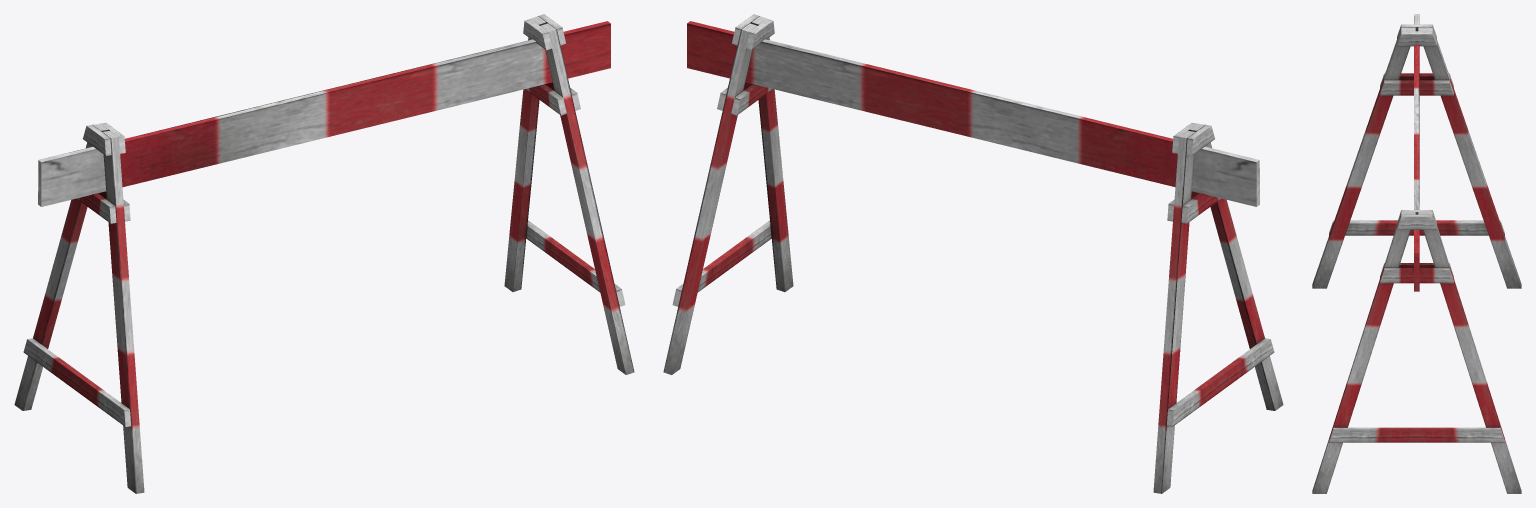
File: barrier_2m.glb
The picture shows the model from 3 angles, left to right: view 1: azimuth 30°, elevation 25°; view 2: azimuth 150°, elevation 25°; view 3: azimuth 270°, elevation 25°; orthographic projection. The views are drawn at different scales.
Visible parts, largest first — view 1: Barieraka_Drewno_2m_0; view 2: Barieraka_Drewno_2m_0; view 3: Barieraka_Drewno_2m_0.
Part boxes in pixels (x1,y1,x2,y2): Barieraka_Drewno_2m_0: (14, 14, 634, 493); Barieraka_Drewno_2m_0: (663, 14, 1283, 493); Barieraka_Drewno_2m_0: (1312, 14, 1521, 493).
Size of the model in its own units: 2 by 1.05 by 0.74.
Materials: 1 (1 with a texture image).
